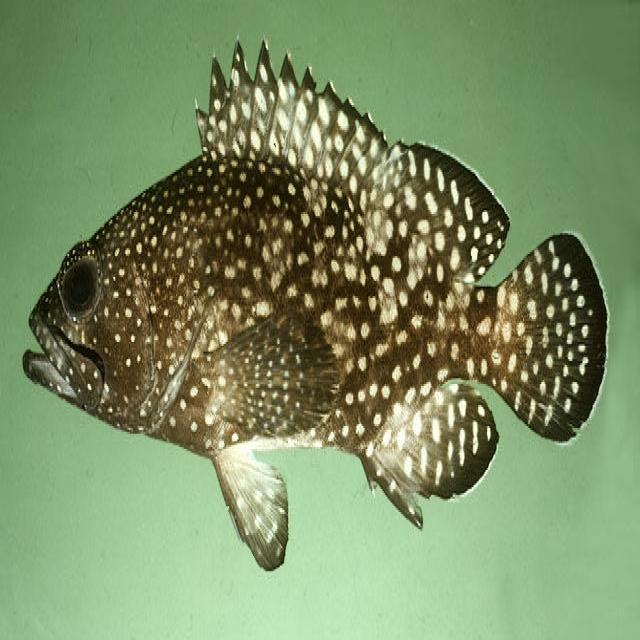ikan: (21, 35, 609, 573)
